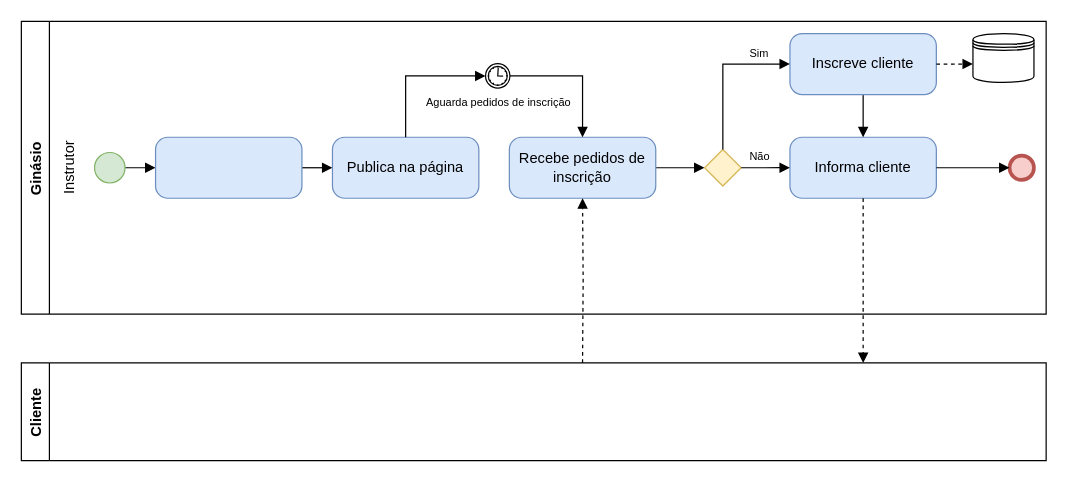
The diagram is 1068 pixels wide and 482 high, and some of its shapes have lost their labels. The shapes that lost their labels are listed below. From the top down, each one's centre as x and y in pixels, then its label:
the point at 1003,57: Aula
the point at 228,167: Marca Aula de grupo
the point at 722,167: Tem vagas?
